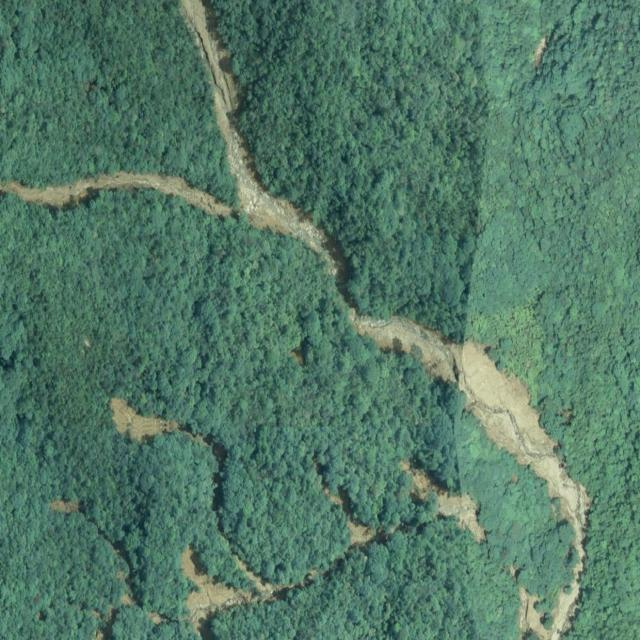landslide: (350, 306, 591, 640), (181, 0, 342, 284), (0, 171, 235, 216), (180, 548, 292, 633), (402, 462, 486, 543), (110, 398, 179, 443), (110, 398, 178, 442), (347, 520, 378, 547)
